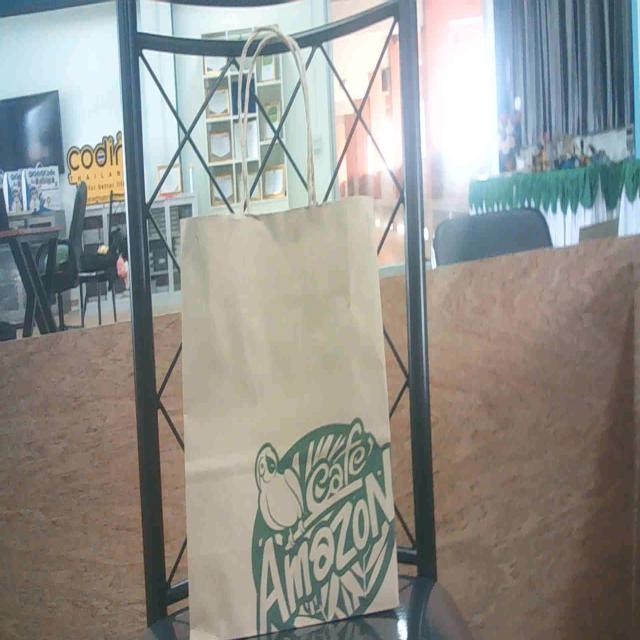bag: (175, 214, 402, 630)
